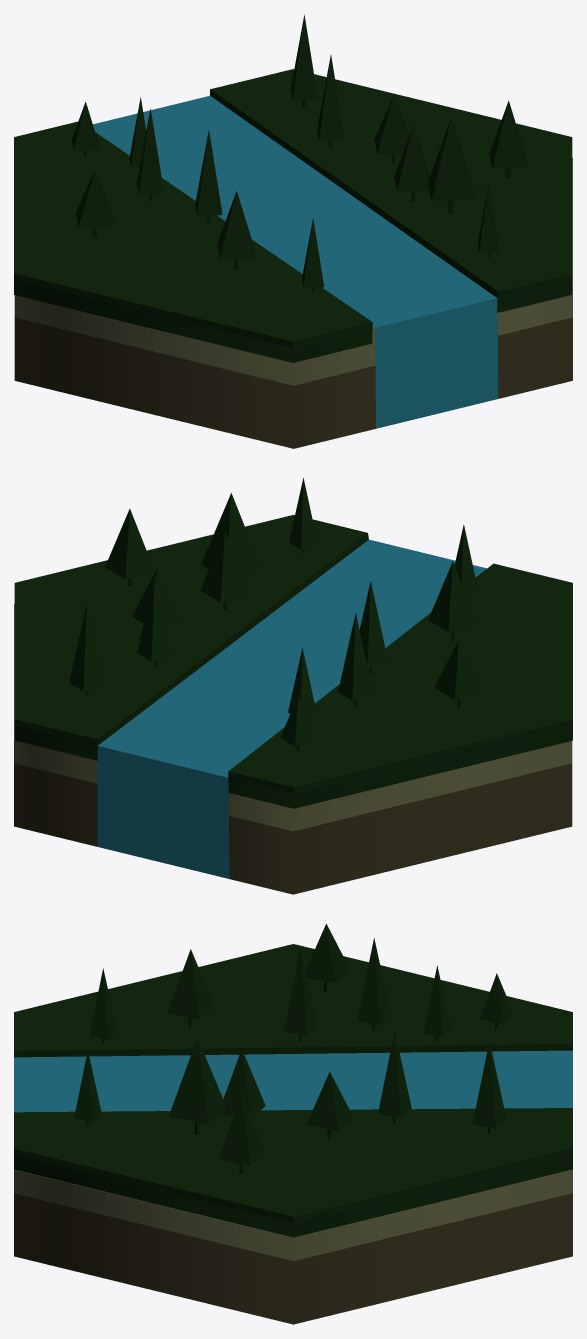
File: Model_River.fbx
3 renders of one model, top to bottom at view 1: azimuth 30°, elevation 25°; view 2: azimuth 150°, elevation 25°; view 3: azimuth 270°, elevation 25°, orthographic.
Visible parts, largest first — view 1: Cylinder009, Cylinder007, Cylinder008, Obj3d66-1716343-48-956, Obj3d66-1716343-48-960, Obj3d66-1716343-48-970, Obj3d66-1716343-48-958, Obj3d66-1716343-48-971, Obj3d66-1716343-48-964, Obj3d66-1716343-48-967, Obj3d66-1716343-48-969, Obj3d66-1716343-48-968 (+5 smaller); view 2: Cylinder009, Cylinder007, Cylinder008, Obj3d66-1716343-48-956, Obj3d66-1716343-48-960, Obj3d66-1716343-48-970, Obj3d66-1716343-48-958, Obj3d66-1716343-48-964, Obj3d66-1716343-48-967, Obj3d66-1716343-48-968, Obj3d66-1716343-48-971, Obj3d66-1716343-48-969 (+5 smaller); view 3: Cylinder009, Cylinder007, Cylinder008, Obj3d66-1716343-48-956, Obj3d66-1716343-48-960, Obj3d66-1716343-48-970, Obj3d66-1716343-48-968, Obj3d66-1716343-48-969, Obj3d66-1716343-48-964, Obj3d66-1716343-48-967, Obj3d66-1716343-48-965, Obj3d66-1716343-48-971 (+5 smaller).
Boxes of the visible parts, x1,y1,x2,y2 form: Cylinder009: [14, 69, 572, 362]; Cylinder007: [14, 317, 572, 448]; Cylinder008: [14, 158, 572, 385]; Obj3d66-1716343-48-956: [428, 117, 474, 214]; Obj3d66-1716343-48-960: [217, 191, 255, 269]; Obj3d66-1716343-48-970: [489, 100, 527, 178]; Obj3d66-1716343-48-958: [394, 124, 429, 201]; Obj3d66-1716343-48-971: [75, 170, 113, 238]; Obj3d66-1716343-48-964: [317, 55, 344, 147]; Obj3d66-1716343-48-967: [290, 14, 317, 107]; Obj3d66-1716343-48-969: [195, 130, 222, 222]; Obj3d66-1716343-48-968: [136, 108, 164, 201]; Cylinder009: [14, 515, 572, 808]; Cylinder007: [14, 763, 572, 894]; Cylinder008: [14, 603, 572, 831]; Obj3d66-1716343-48-956: [201, 493, 261, 574]; Obj3d66-1716343-48-960: [428, 561, 477, 640]; Obj3d66-1716343-48-970: [105, 508, 154, 586]; Obj3d66-1716343-48-958: [200, 532, 249, 609]; Obj3d66-1716343-48-964: [137, 574, 172, 666]; Obj3d66-1716343-48-967: [69, 603, 104, 696]; Obj3d66-1716343-48-968: [338, 613, 373, 705]; Obj3d66-1716343-48-971: [434, 639, 483, 708]; Obj3d66-1716343-48-969: [359, 581, 388, 673]; Cylinder009: [14, 944, 572, 1237]; Cylinder007: [14, 1193, 572, 1324]; Cylinder008: [14, 1169, 572, 1261]; Obj3d66-1716343-48-956: [169, 1038, 225, 1134]; Obj3d66-1716343-48-960: [167, 949, 214, 1028]; Obj3d66-1716343-48-970: [218, 1095, 265, 1173]; Obj3d66-1716343-48-968: [357, 937, 391, 1030]; Obj3d66-1716343-48-969: [284, 948, 317, 1041]; Obj3d66-1716343-48-964: [378, 1031, 411, 1123]; Obj3d66-1716343-48-967: [472, 1041, 506, 1134]; Obj3d66-1716343-48-965: [306, 1071, 353, 1138]; Obj3d66-1716343-48-971: [305, 923, 349, 992].
Bounding box in the file's own units: 1531 × 534 × 1324.
